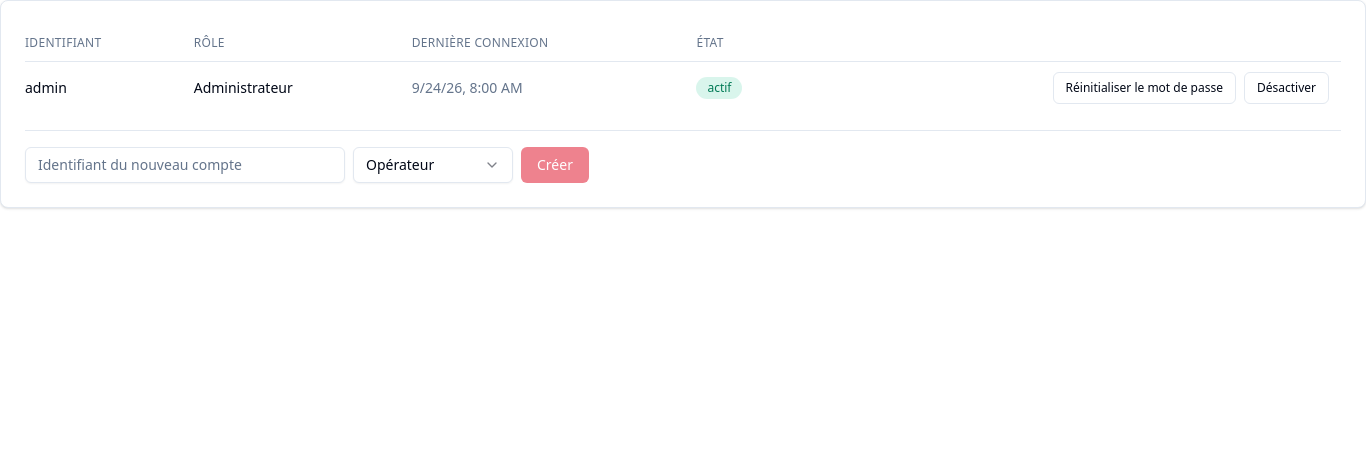
Test: AccountsScreen › affiche le mot de passe une fois après création
Expected: the text "admin" is shown, [25,61,182,114]
Type "op1" into the field with placeholder "Identifiant du nouveau compte".
click(185, 164); type("op1")  # box [25,146,345,182]
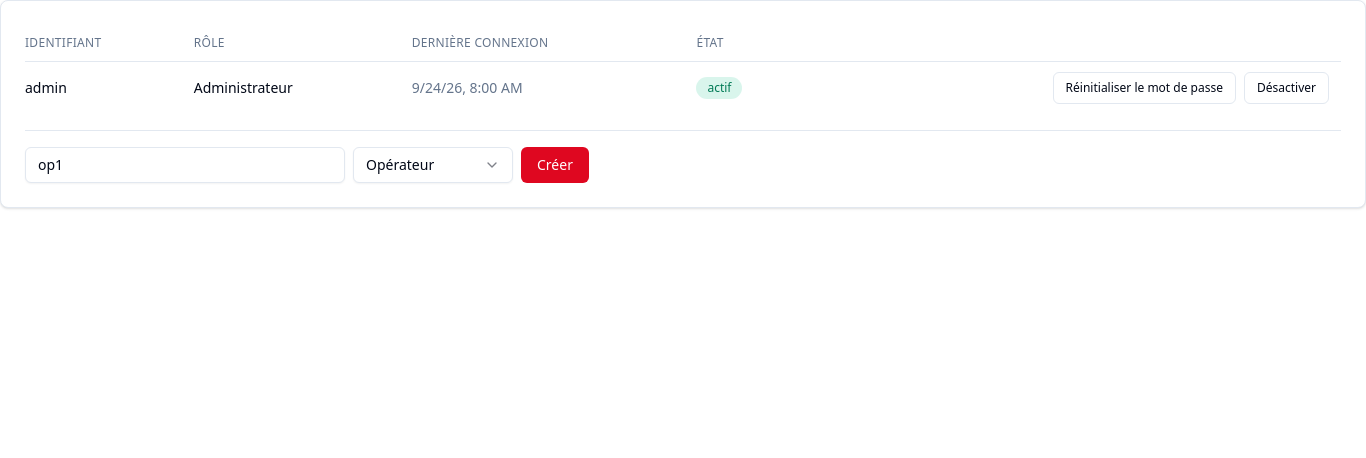
Click the button "Créer".
click(555, 164)  # box [521,146,589,182]
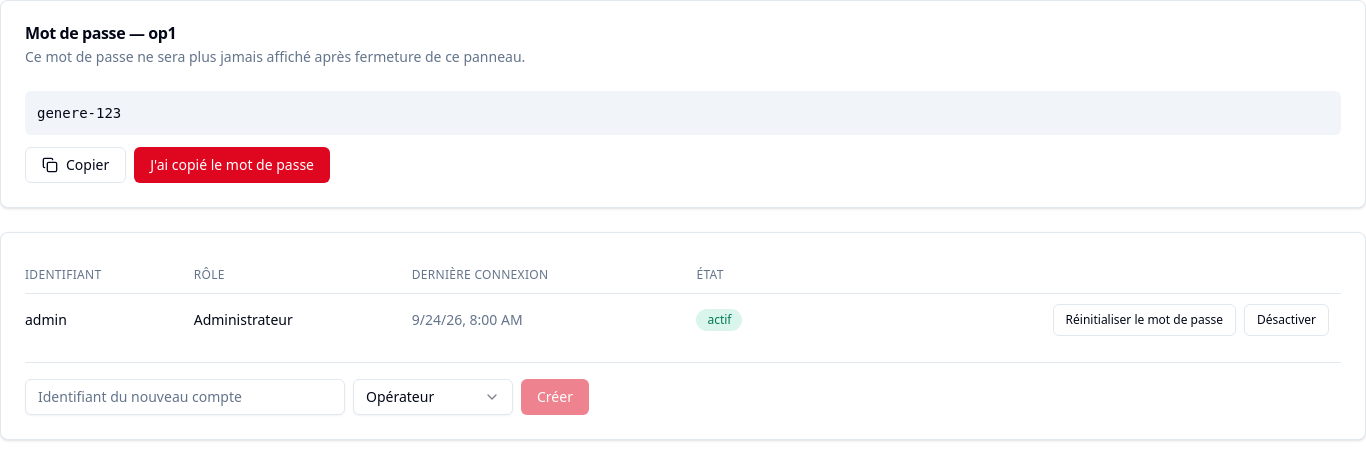
Expected: the text "genere-123" is shown, [25,91,1341,135]
